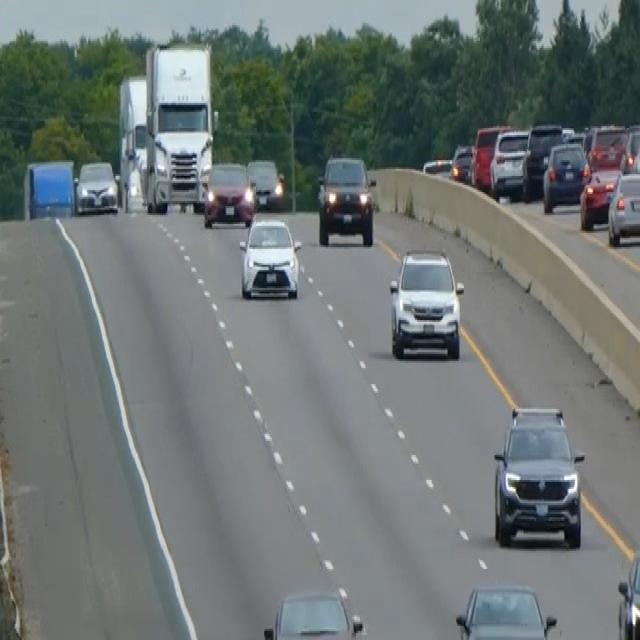car: (387, 245, 465, 361), (454, 582, 558, 638), (316, 153, 377, 247), (262, 583, 366, 638), (238, 214, 301, 300), (541, 138, 590, 212), (202, 160, 255, 228), (521, 121, 563, 197), (489, 126, 530, 199), (470, 121, 510, 190), (579, 166, 621, 230), (607, 167, 639, 247), (74, 158, 118, 215), (616, 546, 639, 638), (587, 122, 627, 172), (246, 156, 283, 208), (448, 141, 474, 183), (621, 123, 639, 174)
jeep: (490, 398, 586, 551)
lorry: (142, 41, 217, 213), (23, 156, 76, 218)
